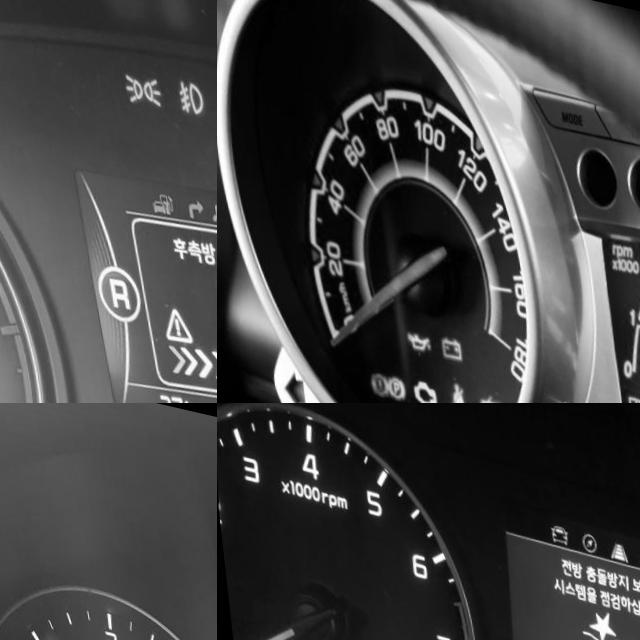Doors: (466, 376, 492, 403)
FrontFogLight: (173, 63, 203, 104)
SideLamp: (120, 59, 160, 98)
